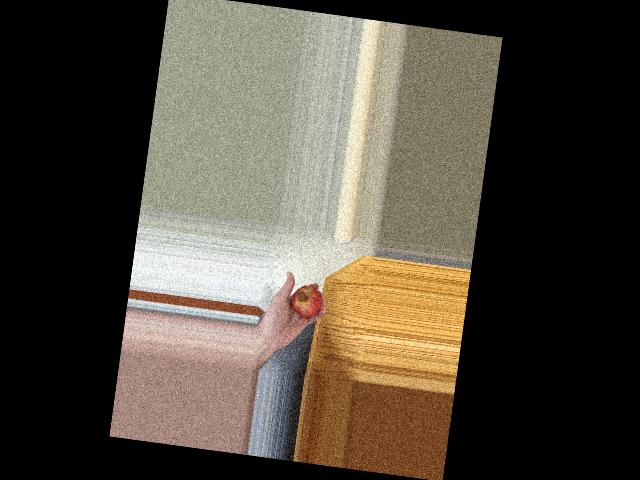apple: (285, 277, 326, 324)
